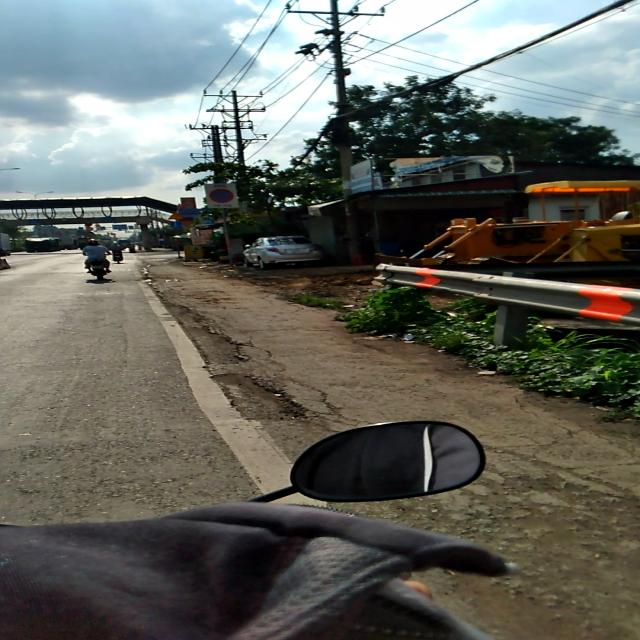P.130: (209, 189, 234, 203)
